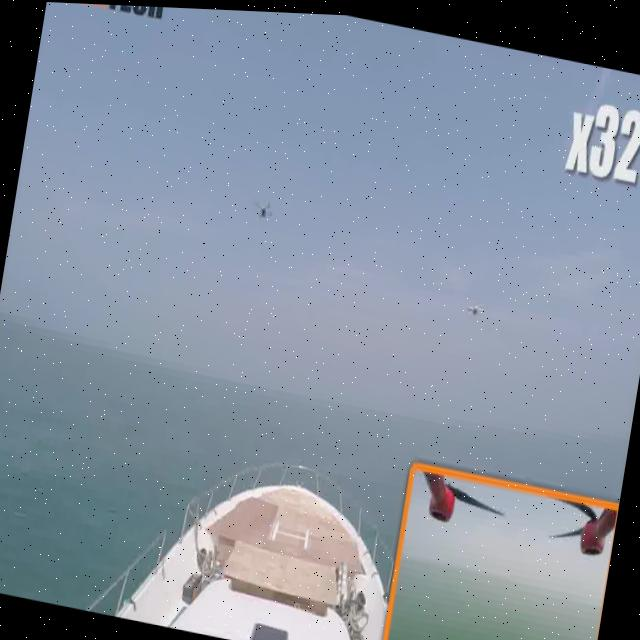drone: (245, 183, 288, 228), (463, 287, 488, 323)
